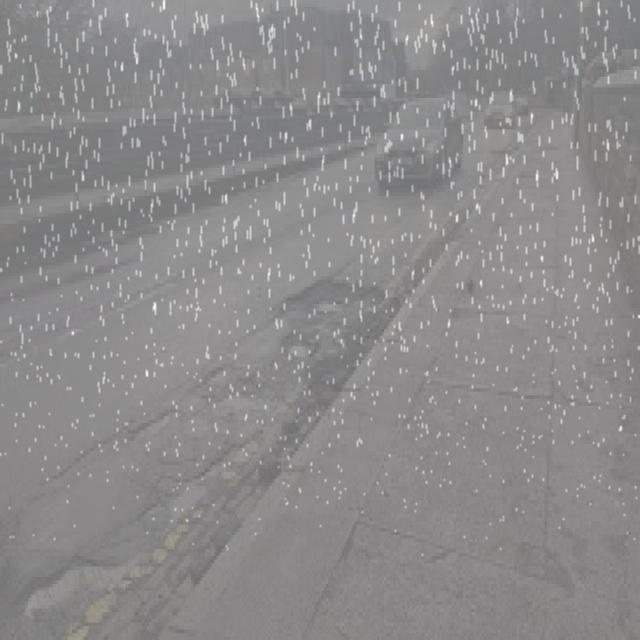Pothole: (45, 361, 317, 604), (248, 264, 399, 376)
